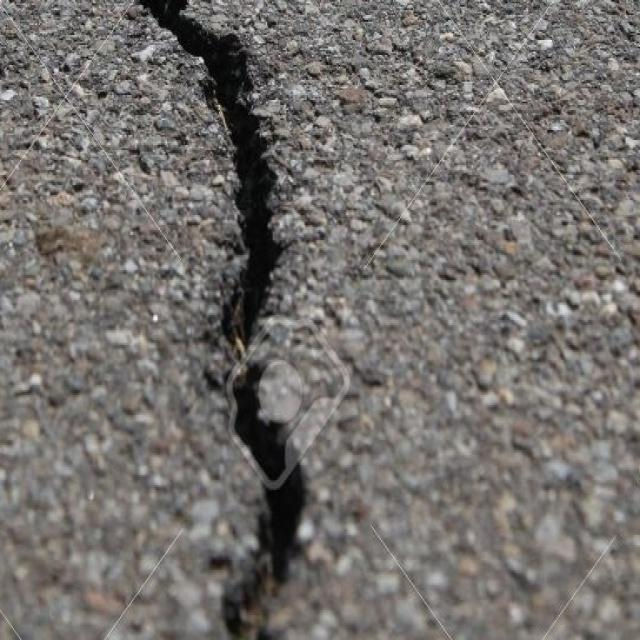Longitudinal: (111, 0, 333, 640)
